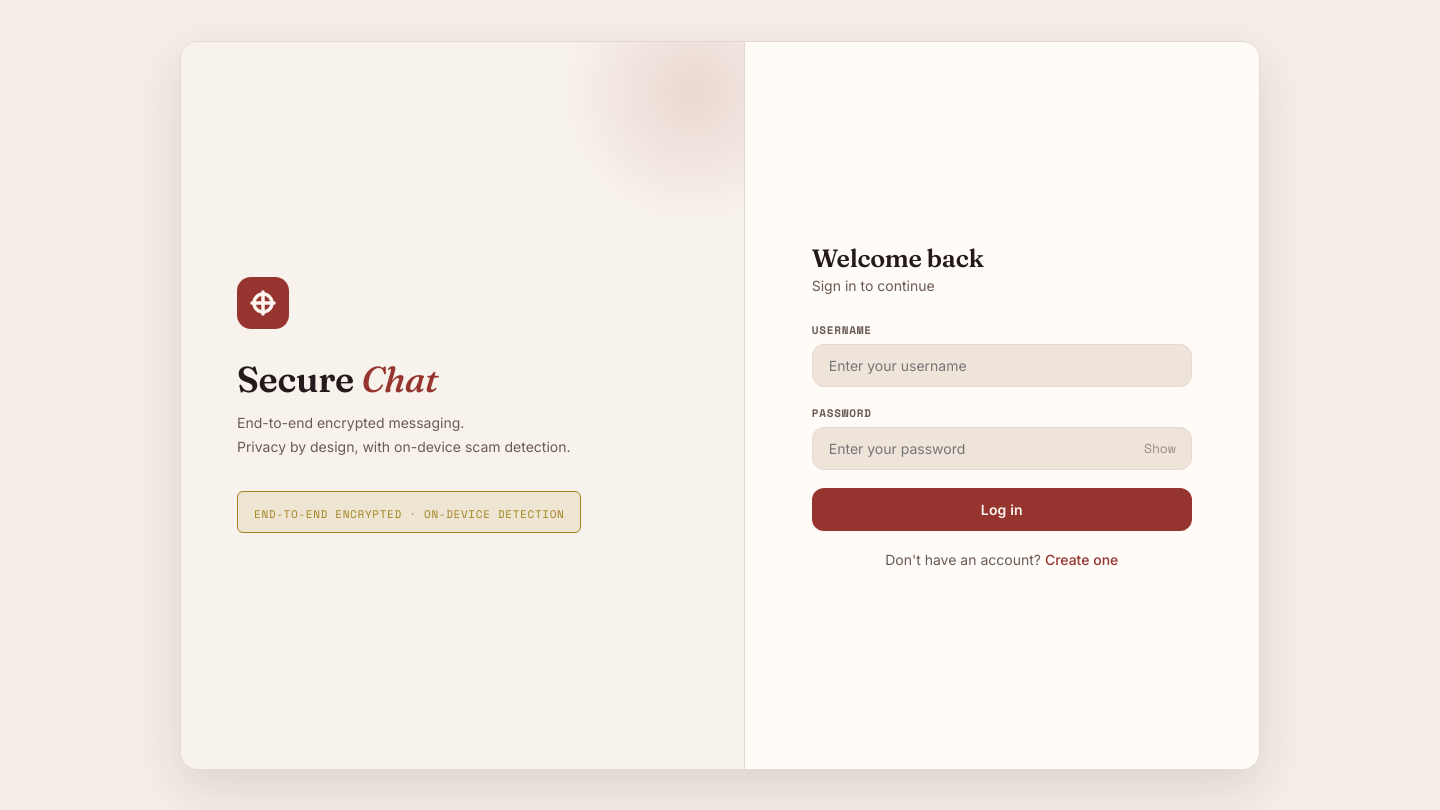
Scenario: AuthScreen › switches to registration fields without a network request
The width and height of the screenshot is (1440, 810).
# Activate the semantic mode-switch button.
Click the button "Create one" at x=1082, y=559, box [1045,550,1118,568]
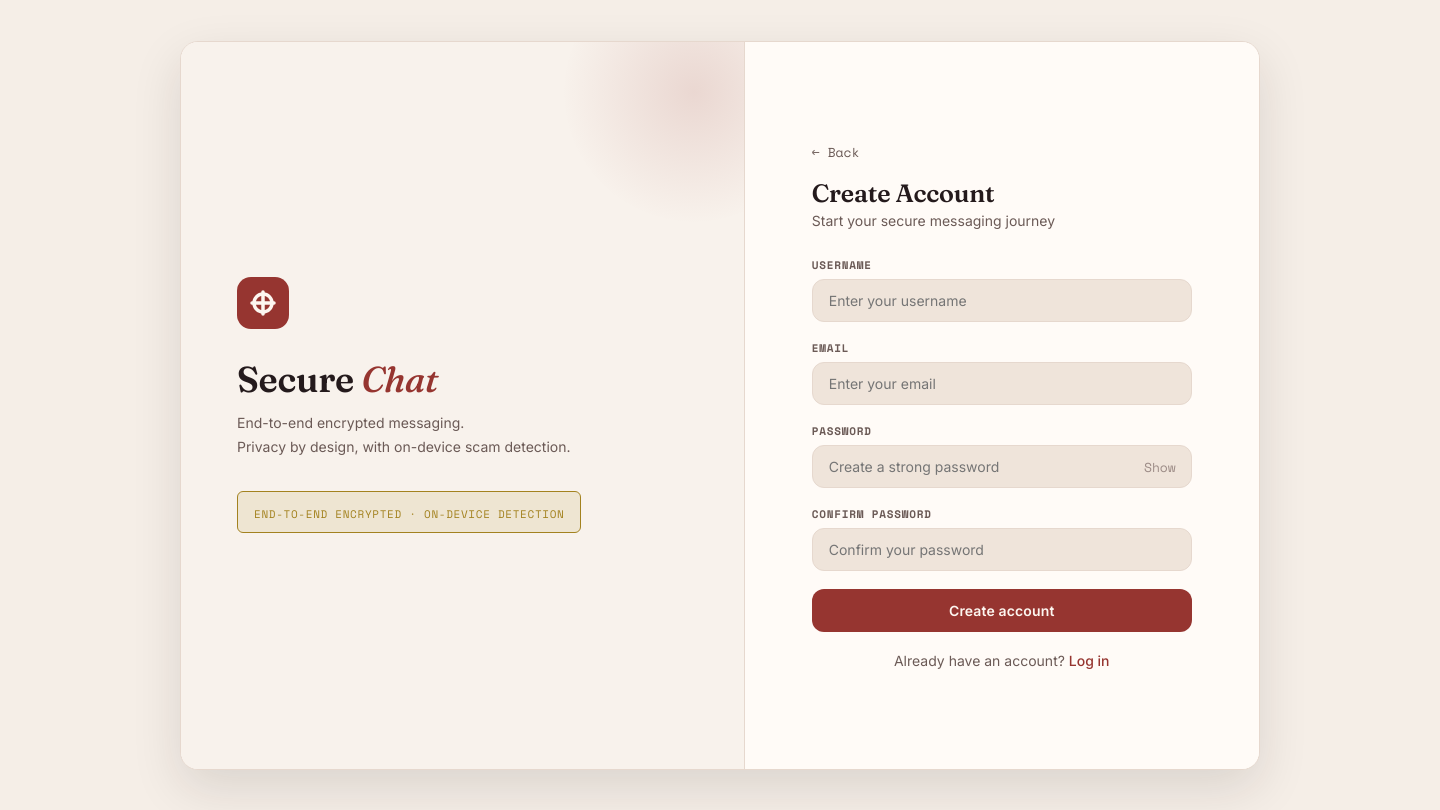
Expected: the button "Create account" is shown, [812,589,1192,632]
